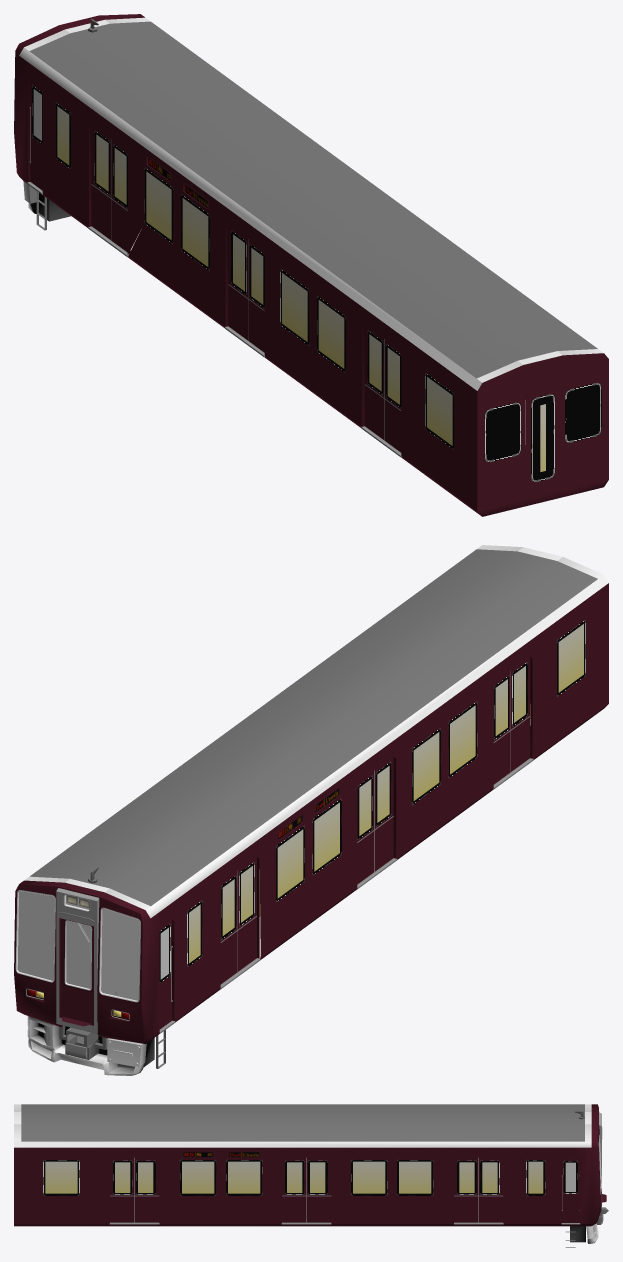
The picture shows the model from 3 angles, top to bottom: view 1: azimuth 30°, elevation 25°; view 2: azimuth 150°, elevation 25°; view 3: azimuth 270°, elevation 25°; orthographic projection. The views are drawn at different scales.
Parts seen in each view (by area): view 1: in_light; view 2: in_light; view 3: in_light.
Part boxes in pixels (box(x1,y1,x2,y2)): in_light: box(14, 14, 608, 516); in_light: box(14, 545, 608, 1075); in_light: box(14, 1104, 608, 1247).
Size of the model in its own units: 6.3 by 8.56 by 38.73.
Materials: 16 (14 with a texture image).
